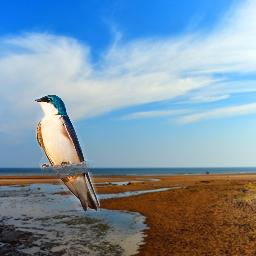Swallow: (34, 94, 100, 212)
